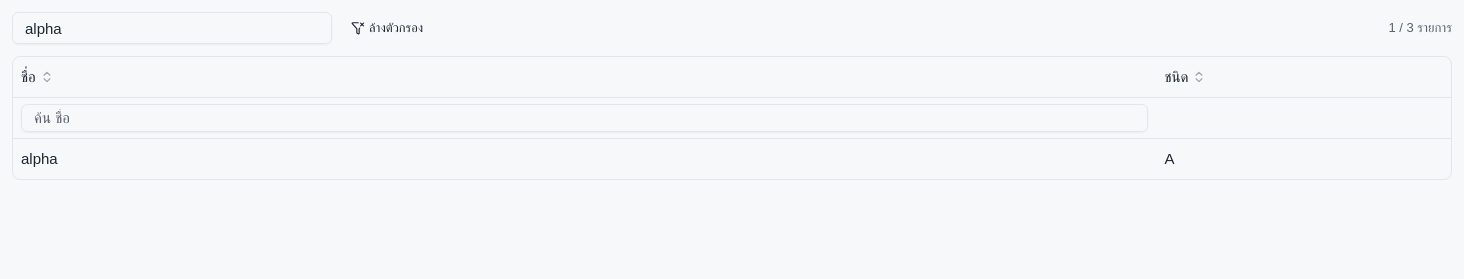
Scenario: DataTable › clears filters from the URL with the clear button
Click the button "ล้างตัวกรอง". click: coordinates (387, 28)
box: x1=340 y1=14 x2=434 y2=42
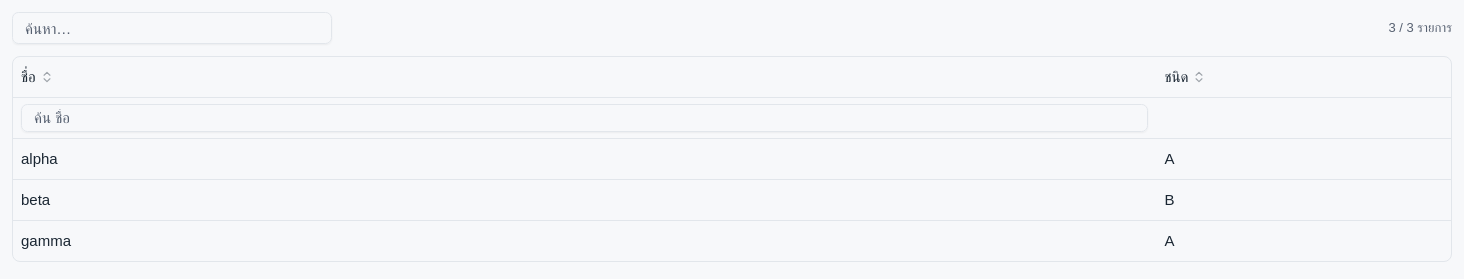
Check: the text "3 / 3 รายการ" is shown, box x1=1388 y1=18 x2=1452 y2=38
